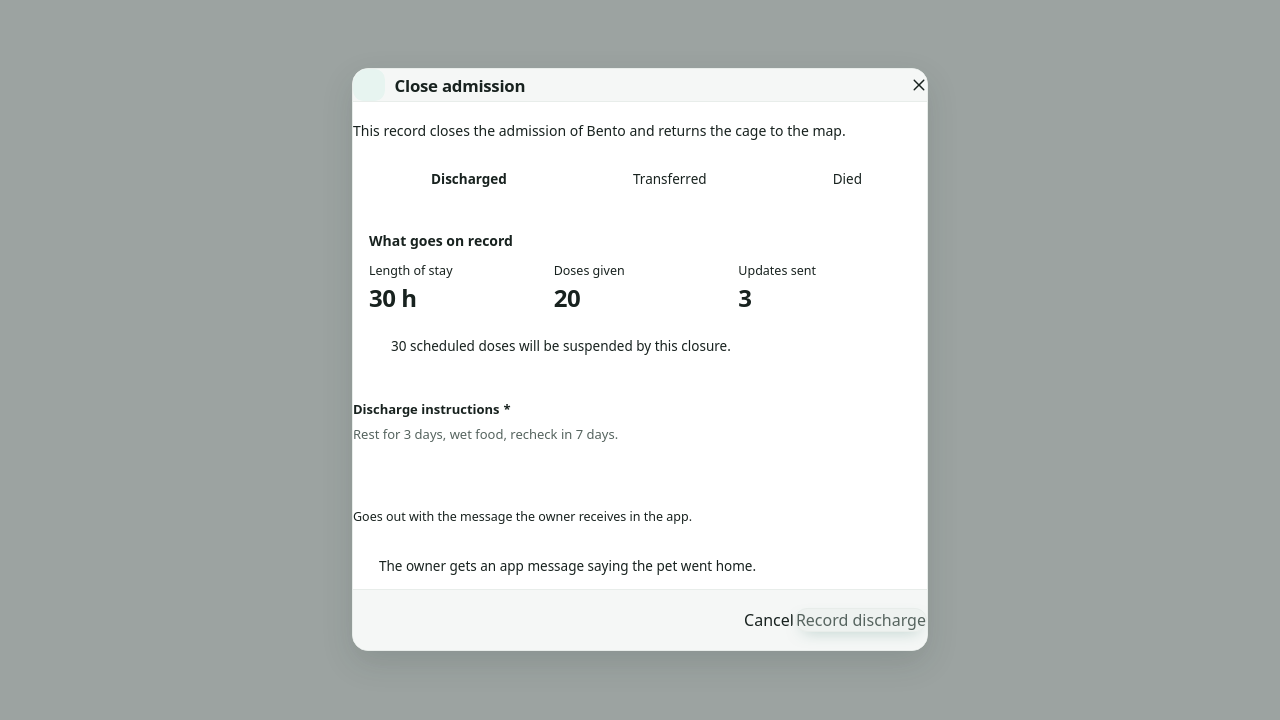
Test: diálogo de alta › óbito com a orientação escrita continua travado até a ligação ser marcada
Click the radio button labelled "Died" at (847, 180), box [771,163,924,197]
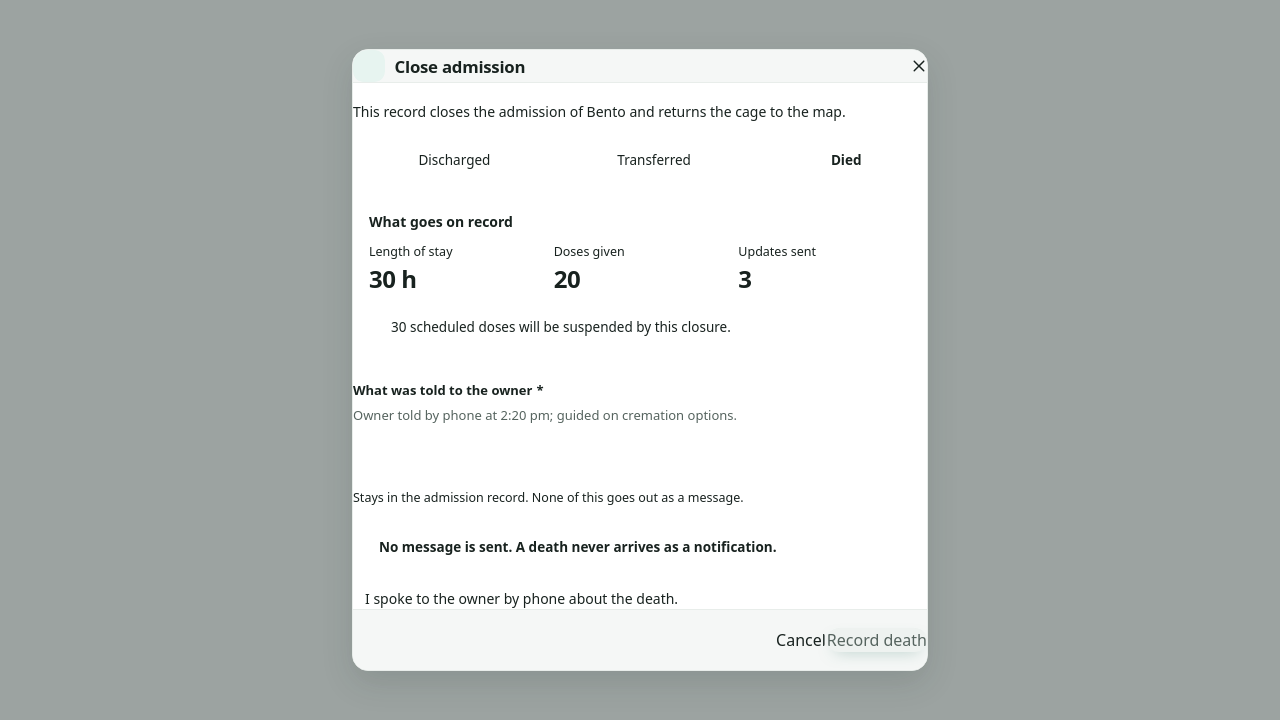
Type "Parada às 3h40." into the text box labelled "What was told to the owner *" at (640, 442), box [353,406,927,478]
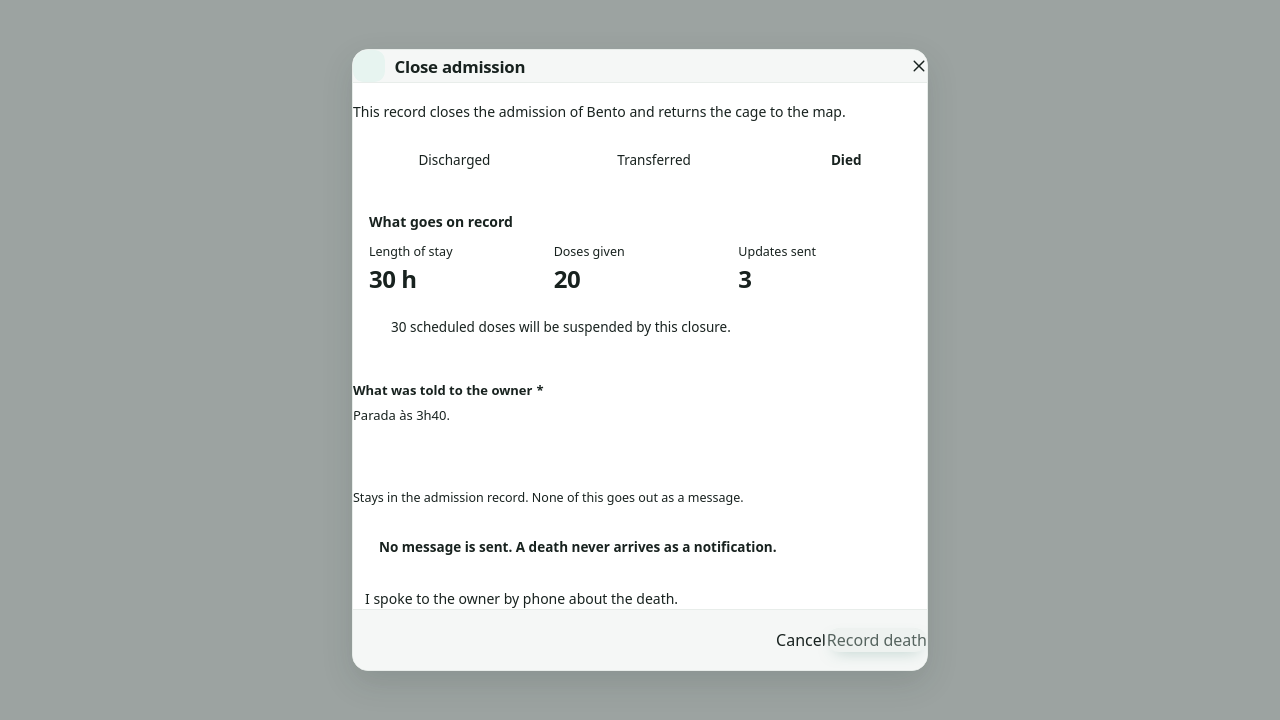
Expected: the button "Record death" is disabled, [827,628,927,652]
Expected: the text "No message is sent. A death never arrives as a notification." is shown, [379,537,777,557]
Expected: the checkbox labelled "I spoke to the owner by phone about the death." is shown
Click the checkbox labelled "I spoke to the owner by phone about the death." at (522, 598), box [365,588,678,607]
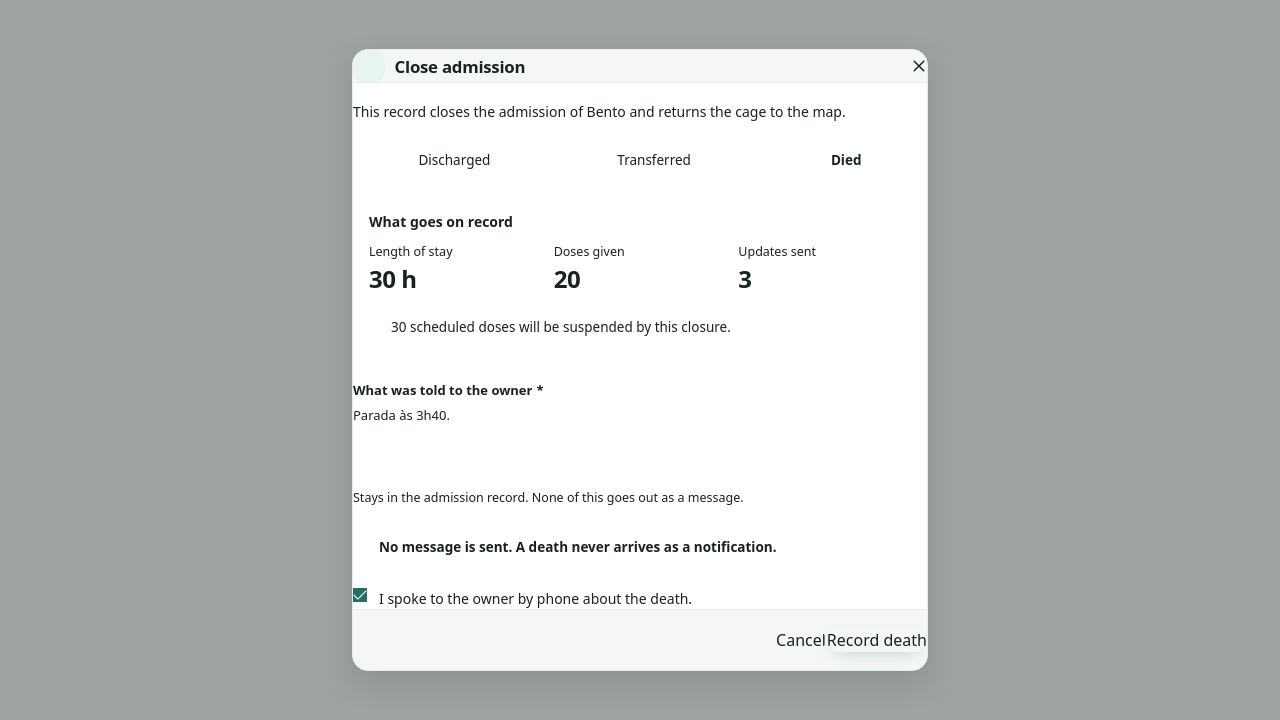
Expected: the button "Record death" is enabled, [827,628,927,652]
